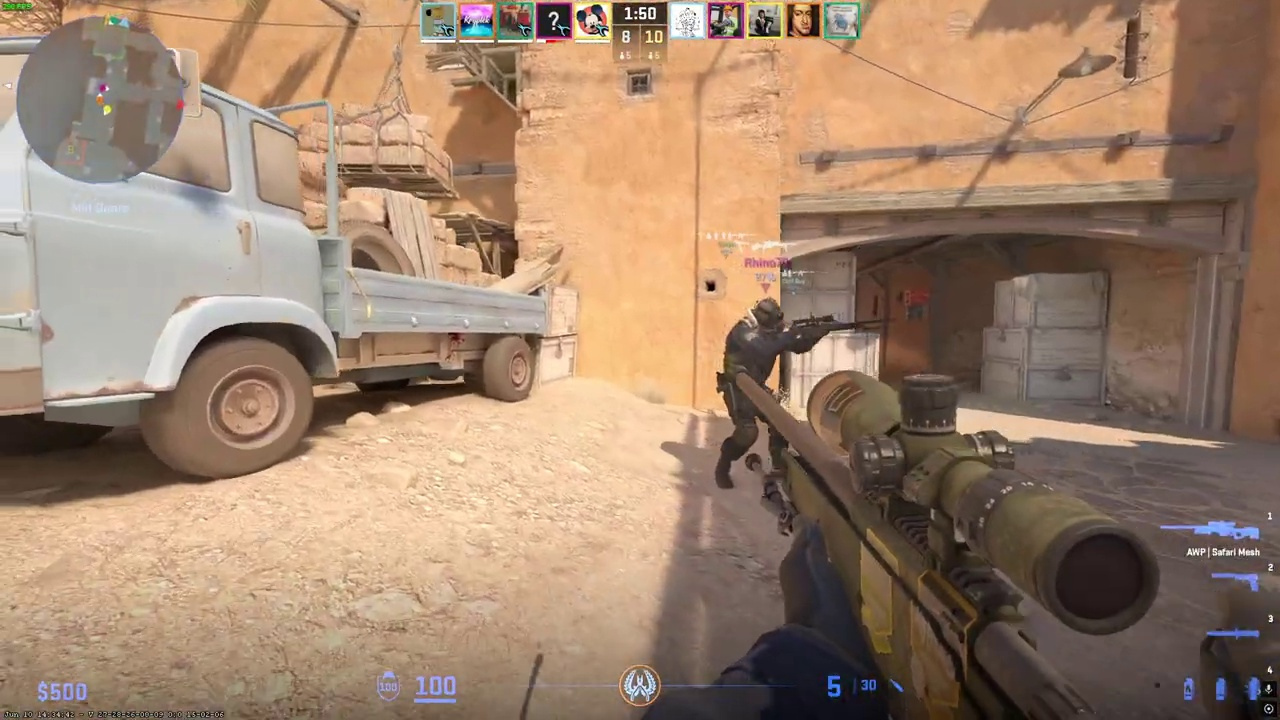CT: (712, 296, 800, 493)
